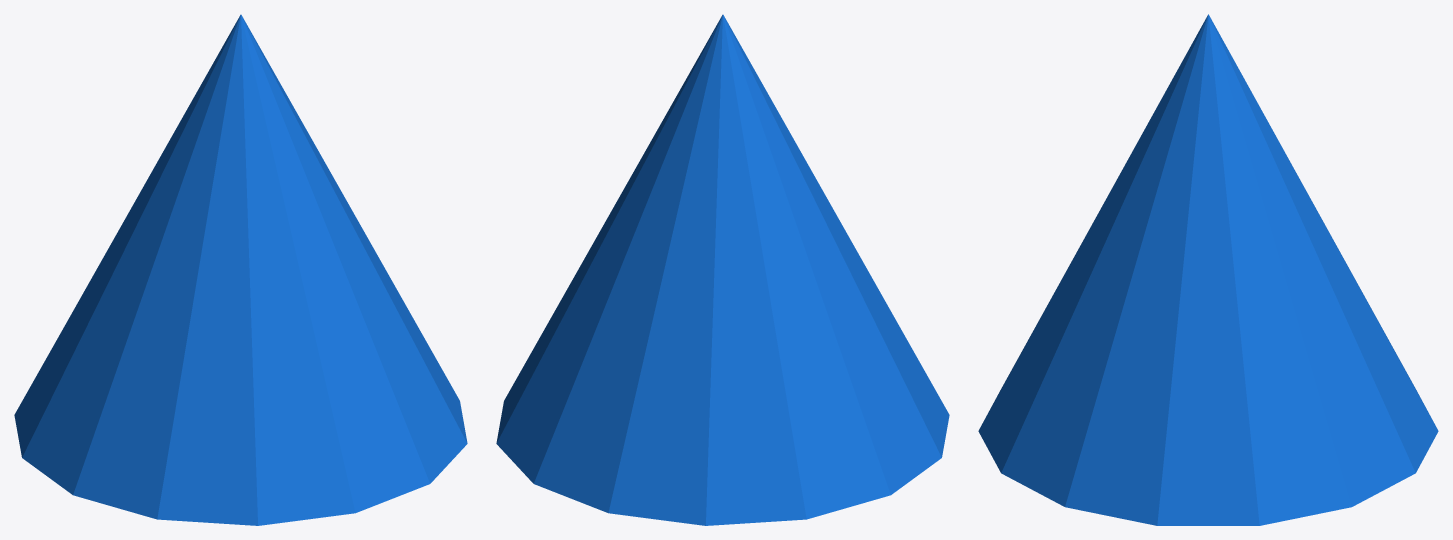
File: ConeChar.fbx
3 views of the same model, side by side, from view 1: azimuth 30°, elevation 25°; view 2: azimuth 150°, elevation 25°; view 3: azimuth 270°, elevation 25° (orthographic).
Visible parts, largest first — view 1: Cone; view 2: Cone; view 3: Cone.
Boxes of the visible parts, box(x1,y1,x2,y2) form: Cone: box(14, 14, 467, 525); Cone: box(496, 14, 949, 525); Cone: box(978, 14, 1438, 525).
Bounding box in the file's own units: 195 × 200 × 200.
